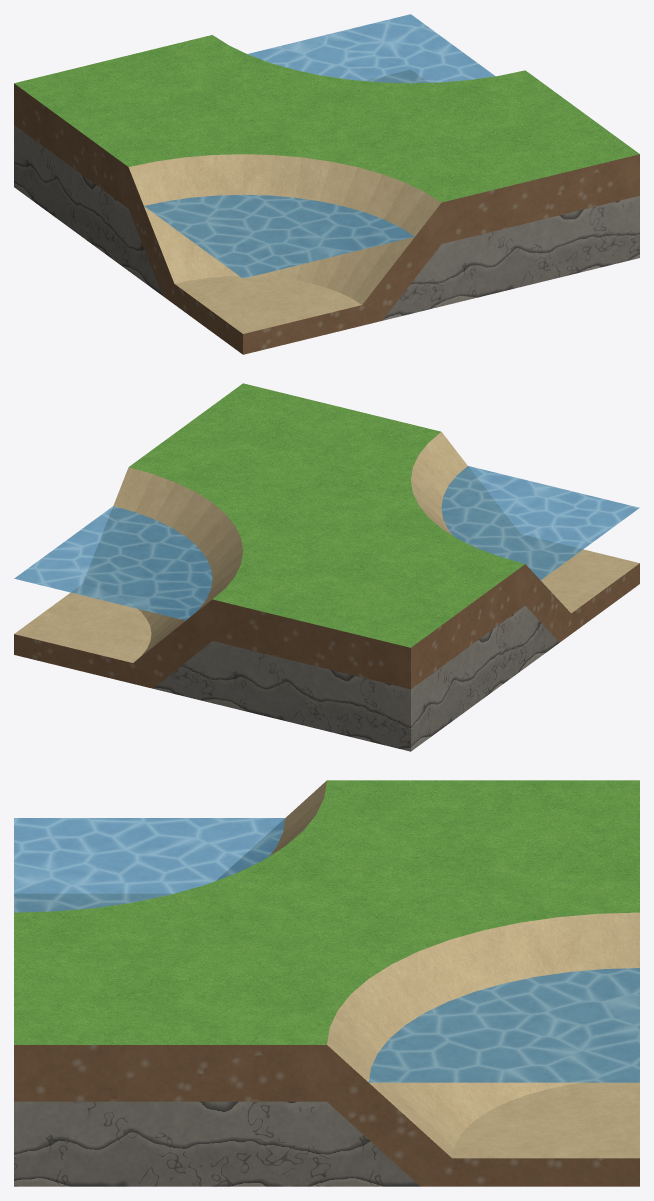
Rendered from Water_Diagonal_L.fbx.
3 renders of one model, top to bottom at view 1: azimuth 30°, elevation 25°; view 2: azimuth 150°, elevation 25°; view 3: azimuth 270°, elevation 25°, orthographic. The views are drawn at different scales.
Parts seen in each view (by area): view 1: Water_Diagonal_L, Water_Diagonal_L_Water; view 2: Water_Diagonal_L, Water_Diagonal_L_Water; view 3: Water_Diagonal_L, Water_Diagonal_L_Water.
Boxes of the visible parts, <box> form: Water_Diagonal_L: <box>14,35,639,354</box>; Water_Diagonal_L_Water: <box>144,14,495,278</box>; Water_Diagonal_L: <box>14,383,639,751</box>; Water_Diagonal_L_Water: <box>14,466,639,620</box>; Water_Diagonal_L: <box>14,780,639,1186</box>; Water_Diagonal_L_Water: <box>14,818,639,1082</box>.
Size of the model in its own units: 3 by 0.75 by 3.
Materials: 5 (5 with a texture image).
